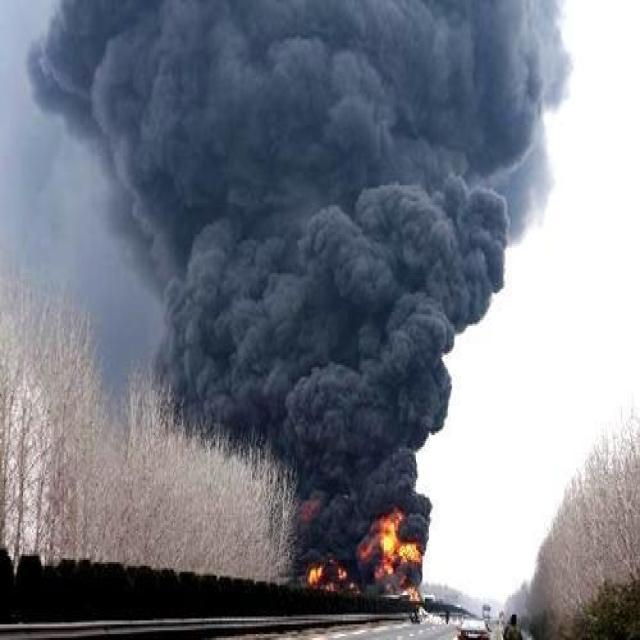Fire: (358, 509, 422, 601), (306, 562, 347, 593)
Smoke: (27, 2, 575, 597)
